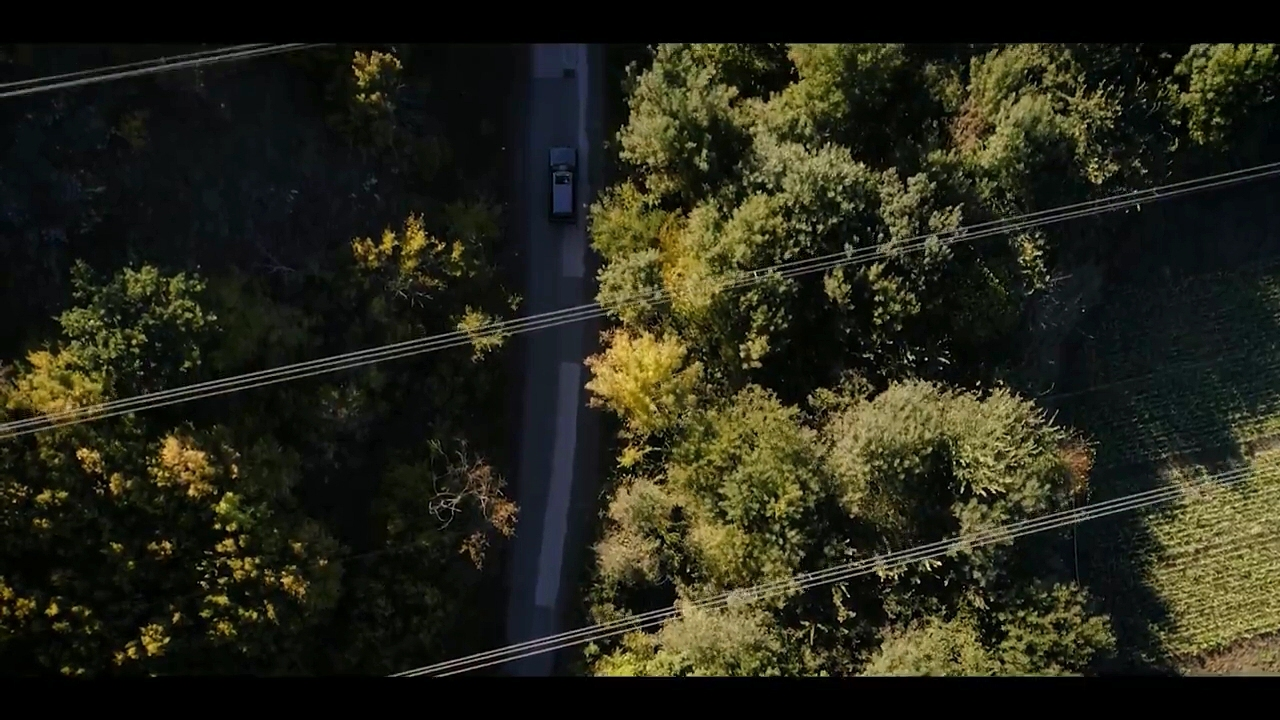araba: (548, 142, 578, 216)
